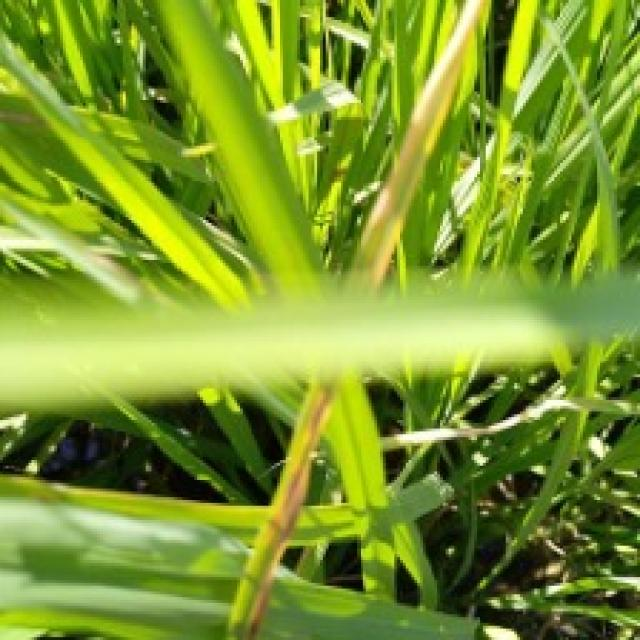Rice___Rice_Blast: (328, 0, 492, 302), (228, 372, 342, 637)
